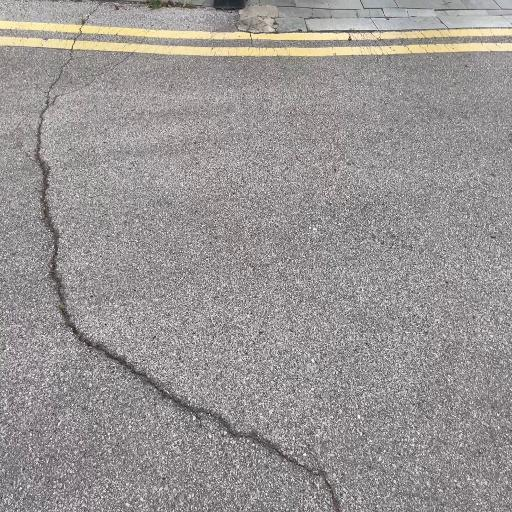Melintang: (0, 20, 512, 353)
